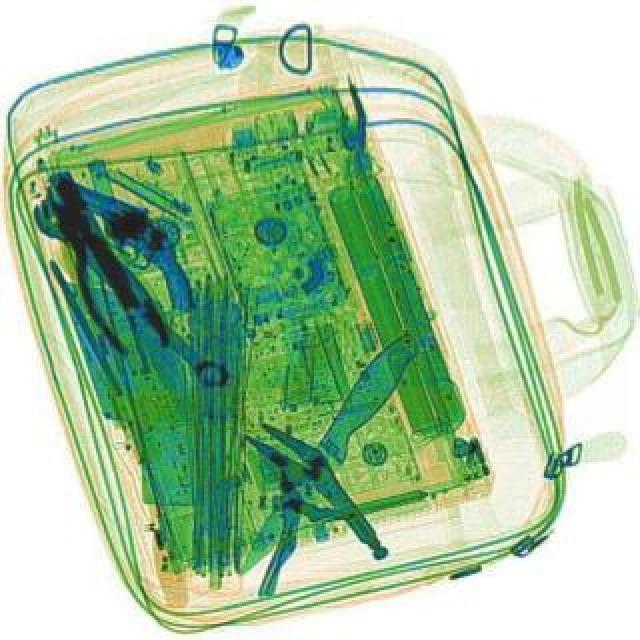gun: (22, 170, 222, 312)
knife: (222, 324, 426, 584), (78, 156, 216, 468)
scissors: (26, 190, 234, 394)
wrench: (28, 160, 174, 368)
